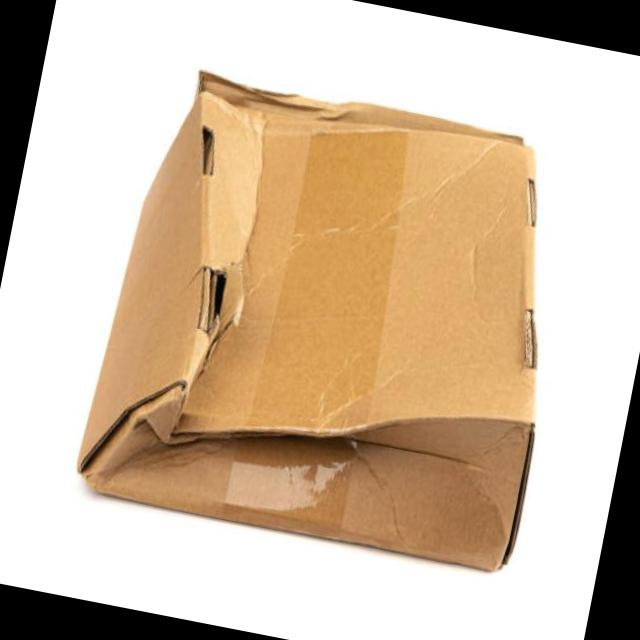crushed: (83, 380, 504, 573), (195, 72, 523, 146)
